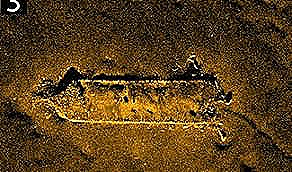ship: (36, 77, 232, 128)
